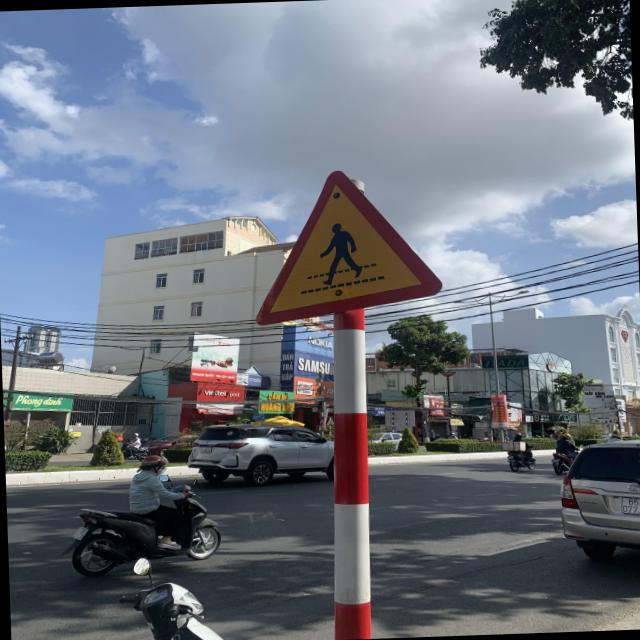Duong_Nguoi_Di_Bo_Sang_Ngang: (250, 167, 443, 327)
